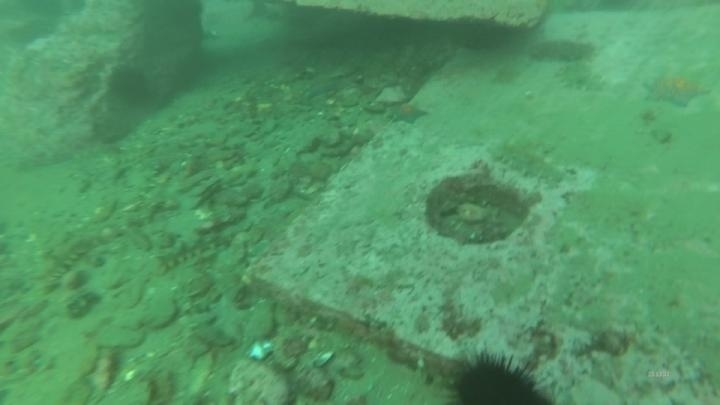echinus: (447, 348, 551, 404), (106, 63, 154, 107)
holothurian: (489, 135, 570, 187), (42, 236, 91, 291), (152, 232, 216, 274), (528, 35, 597, 66), (551, 64, 610, 96)
starfish: (642, 65, 712, 111), (386, 99, 431, 127), (303, 72, 345, 100)
